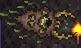crimera: (1, 1, 81, 48)
